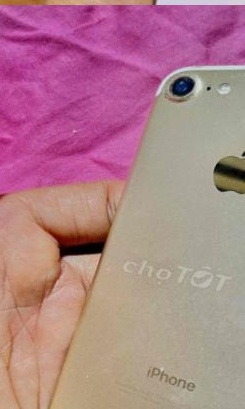scratch: (147, 59, 210, 108), (73, 359, 127, 390), (216, 64, 245, 101), (231, 99, 245, 134), (93, 260, 113, 275), (153, 364, 168, 373)
